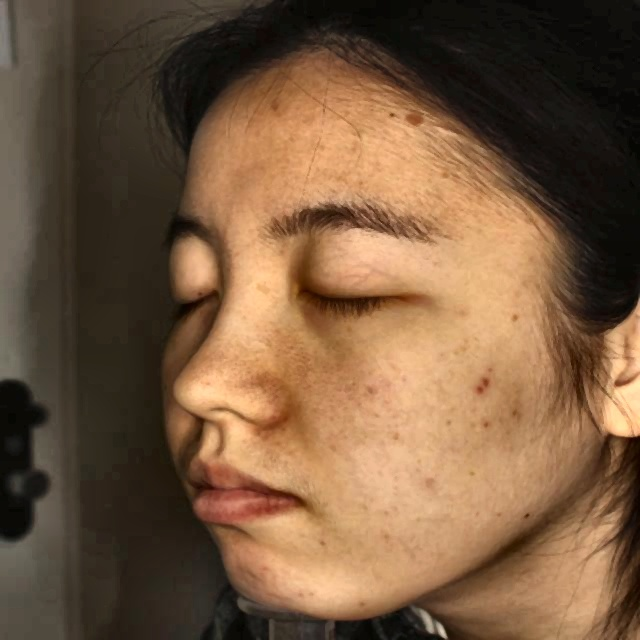comedone: (475, 372, 497, 402)
